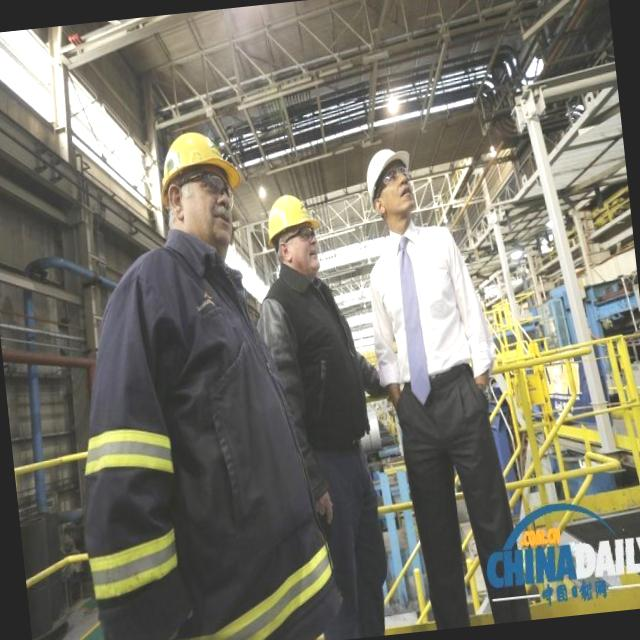helmet: (150, 124, 248, 216), (262, 188, 323, 254)
no-vest: (117, 242, 326, 640), (368, 223, 481, 400)
